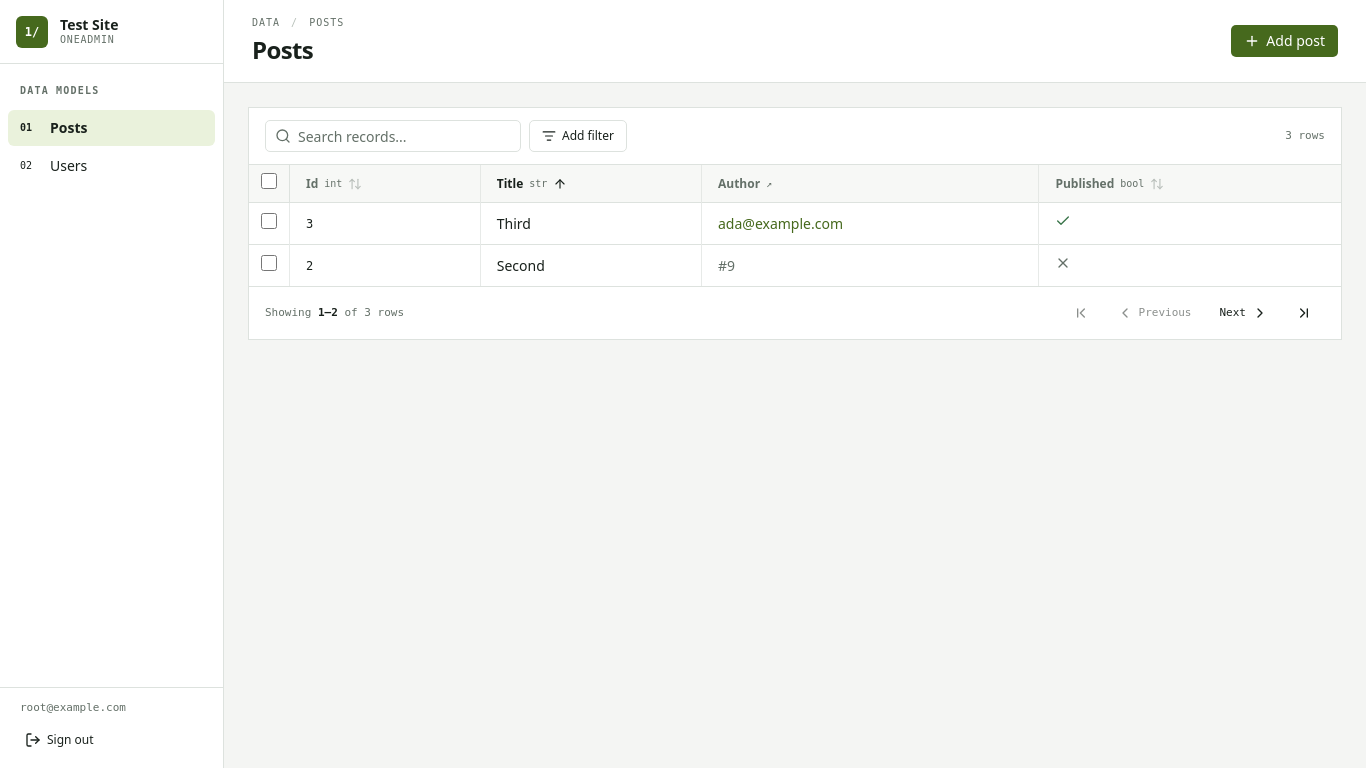
it: detail › shows every field with the relation linked, and a breadcrumb back to the list view
Click the link "2" at (310, 266), box [306,259,313,273]
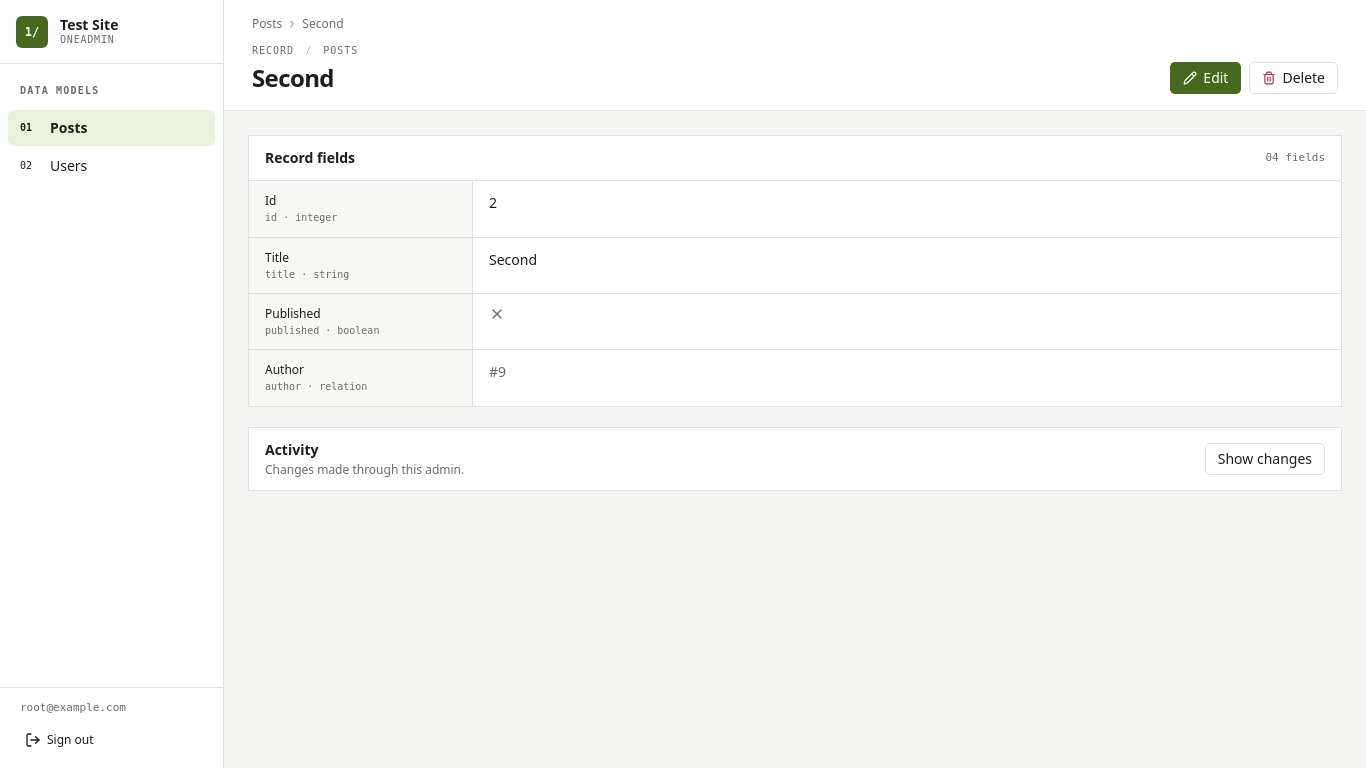
Result: the heading "Second" is shown at [252,61,334,94]
Result: the text "Author" is shown at [265,361,304,378]
